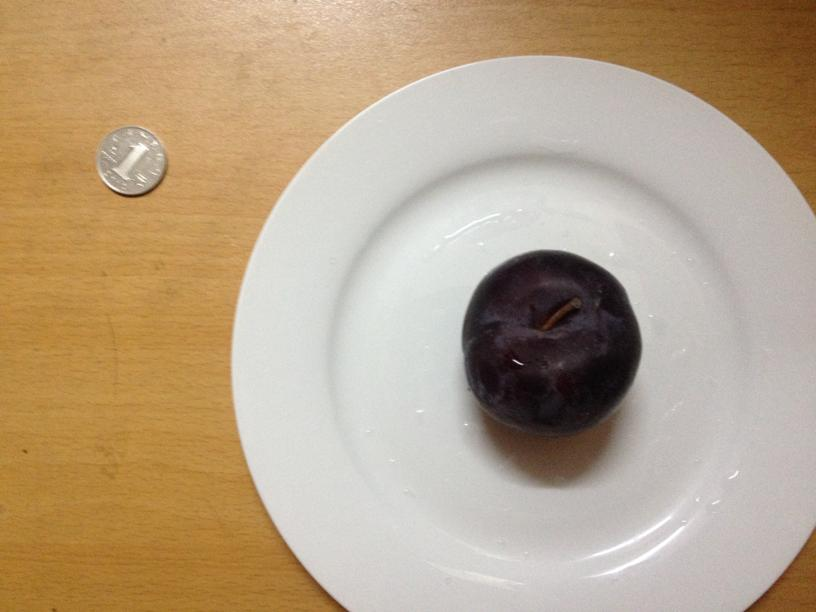coin: (91, 127, 167, 197)
plum: (463, 253, 641, 427)
